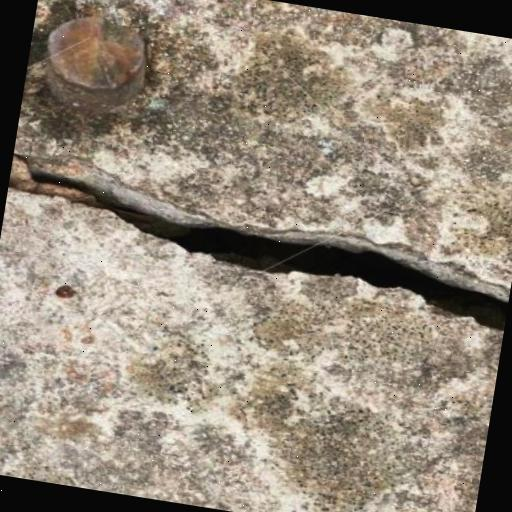spalling: (12, 151, 510, 335)
